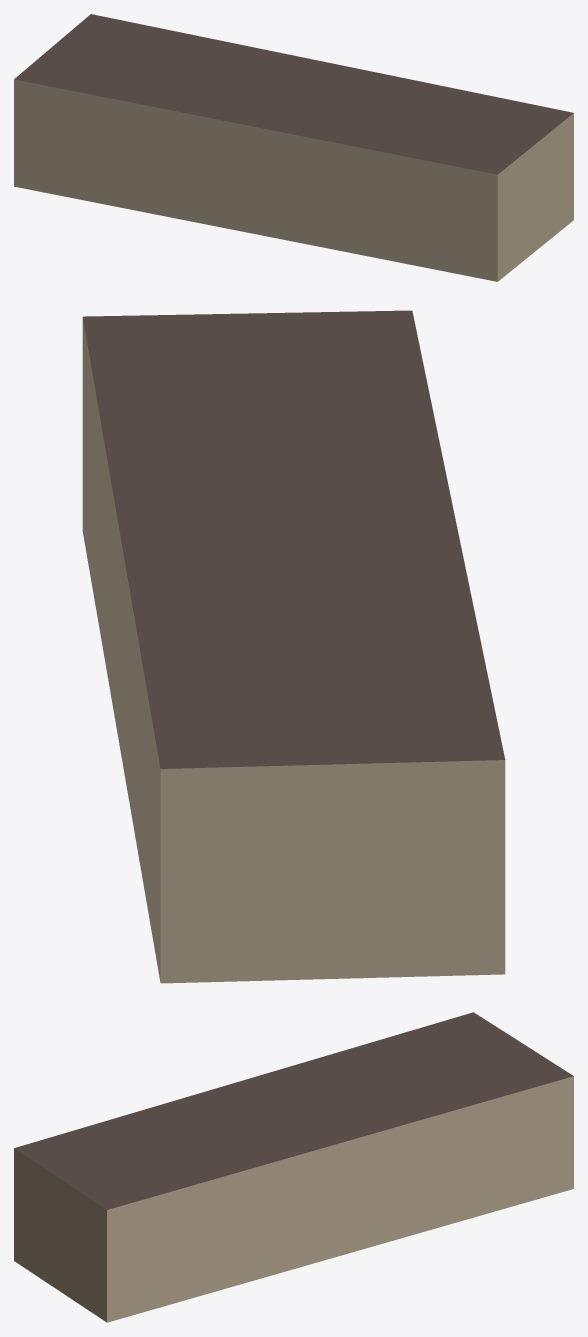
3 views of the same model, one above another, from view 1: azimuth 30°, elevation 25°; view 2: azimuth 150°, elevation 25°; view 3: azimuth 270°, elevation 25° (orthographic). The views are drawn at different scales.
Visible parts, largest first — view 1: HP-w369237865; view 2: HP-w369237865; view 3: HP-w369237865.
Part boxes in pixels (x1,y1,x2,y2): HP-w369237865: (14, 14, 573, 281); HP-w369237865: (82, 310, 505, 983); HP-w369237865: (14, 1012, 573, 1322).
Bounding box in the file's own units: 33.87 × 9 × 40.52.
